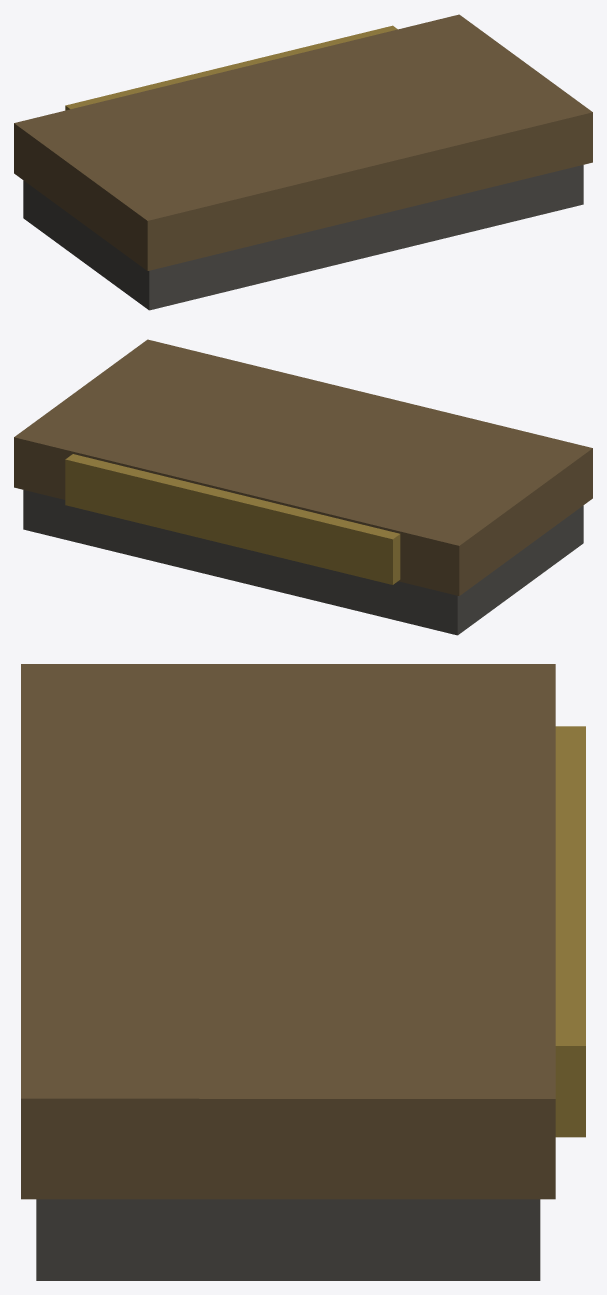
The model's file is inf_possum_lower_torso.fbx.
3 renders of one model, top to bottom at view 1: azimuth 30°, elevation 25°; view 2: azimuth 150°, elevation 25°; view 3: azimuth 270°, elevation 25°, orthographic. The views are drawn at different scales.
Visible parts, largest first — view 1: inf_possum_lower_torso; view 2: inf_possum_lower_torso; view 3: inf_possum_lower_torso.
Part boxes in pixels (x1,y1,x2,y2): inf_possum_lower_torso: (14, 14, 592, 310); inf_possum_lower_torso: (14, 339, 592, 635); inf_possum_lower_torso: (21, 664, 585, 1280).
Size of the model in its own units: 204 by 41 by 112.
